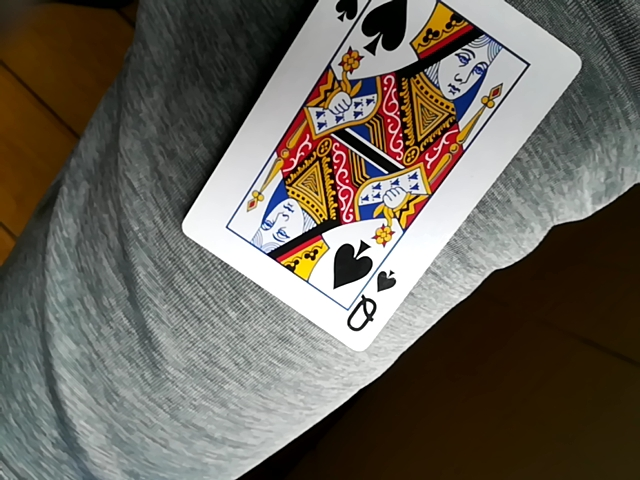ht q: (184, 3, 582, 353)
